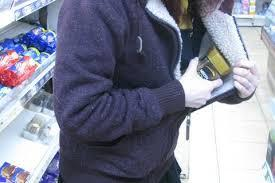shoplifting: (133, 33, 275, 135)
